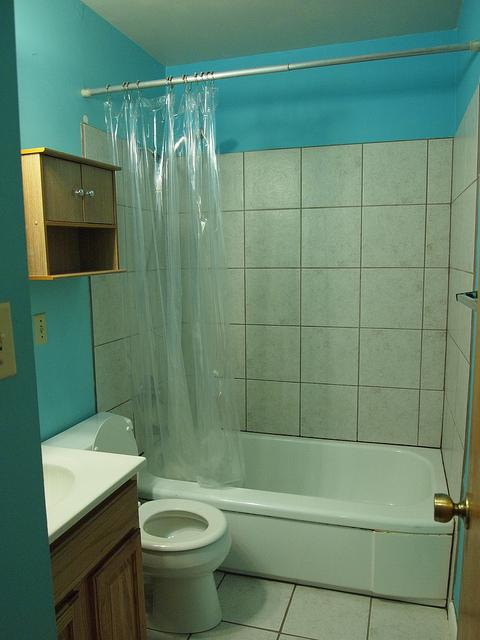Lavamanos: (0, 430, 112, 557)
Sanitario: (48, 410, 234, 633)
